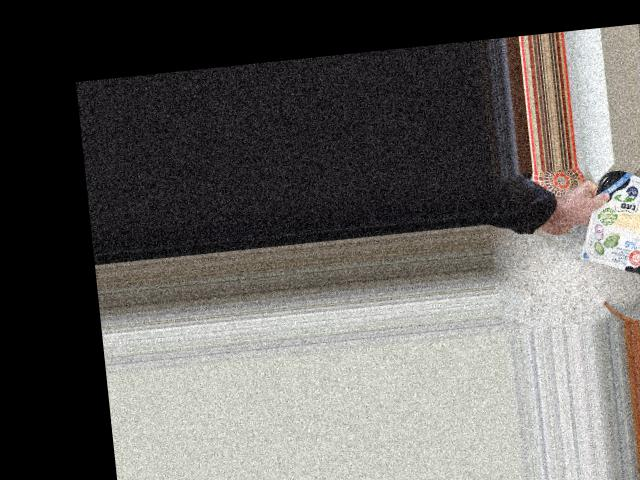cheese: (584, 179, 640, 271)
